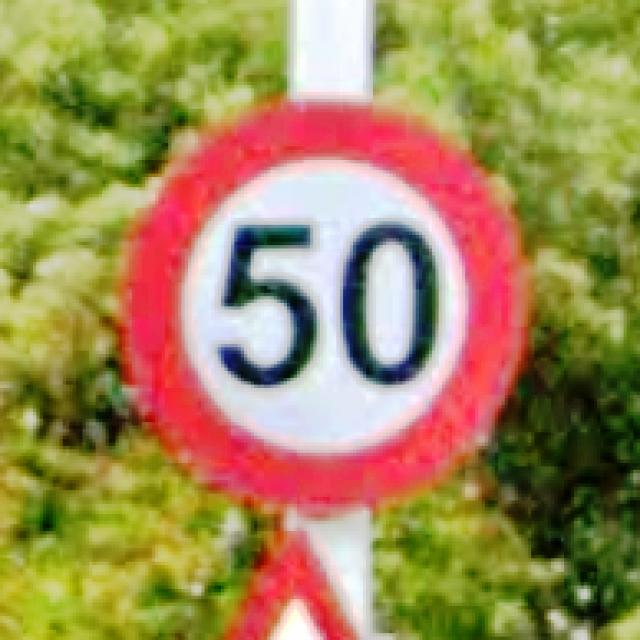max50: (112, 89, 531, 514)
